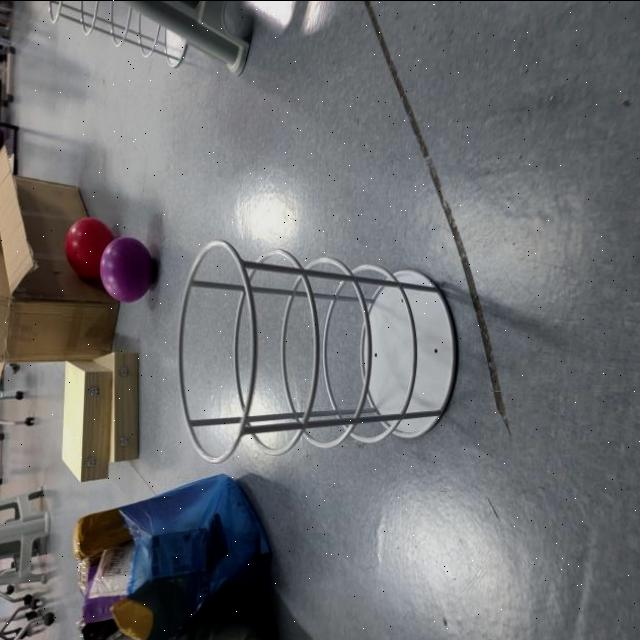P: (102, 236, 154, 301)
R: (66, 216, 112, 279)
S: (174, 235, 463, 468)
